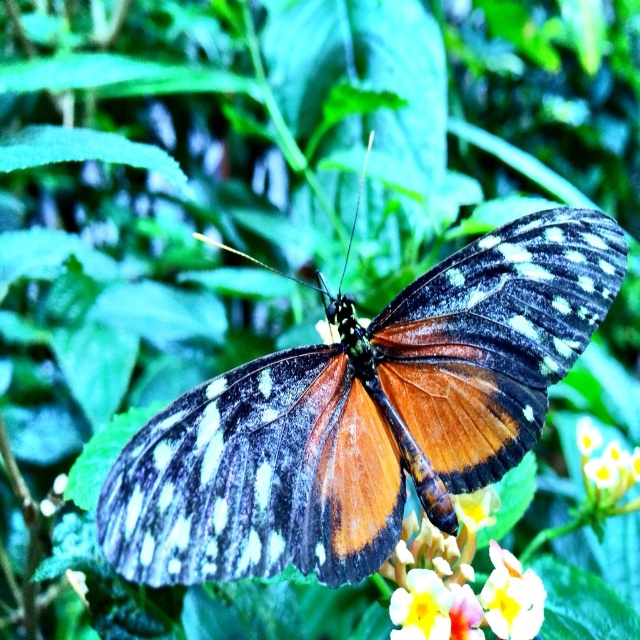Butterfly: (97, 131, 630, 589)
